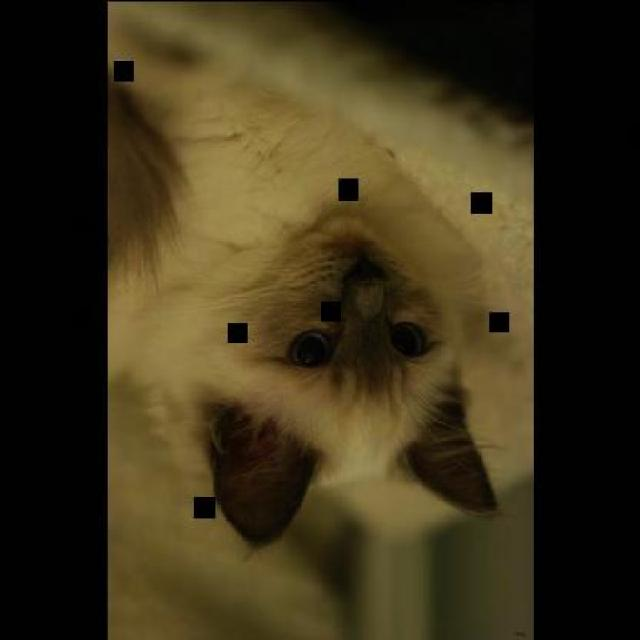unauthorized: (106, 1, 531, 638)
